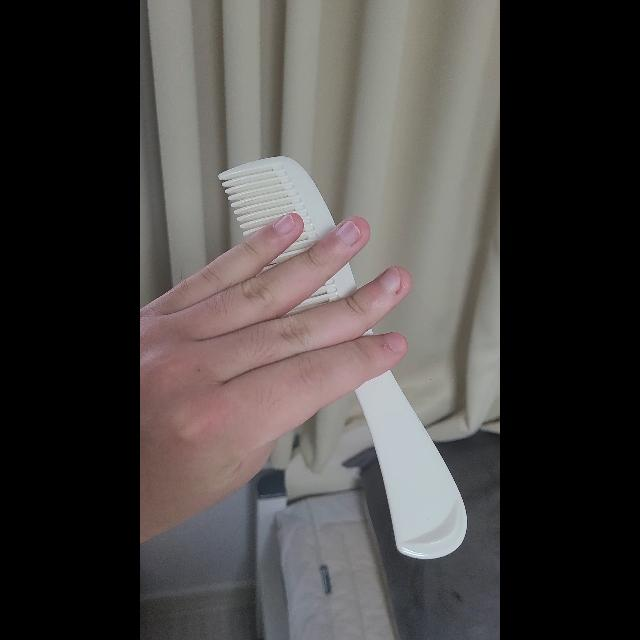COMB: (218, 155, 467, 560)
